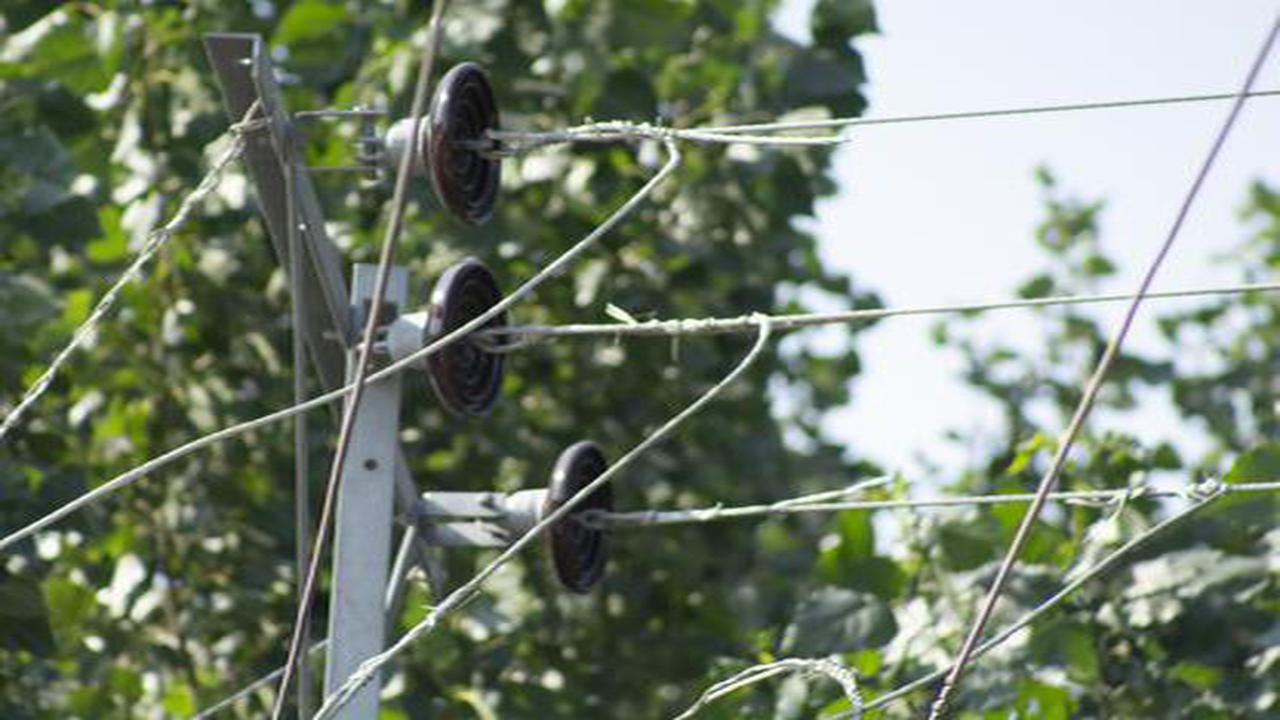insulator_disc: (371, 249, 514, 427), (379, 60, 511, 232), (503, 438, 628, 599)
